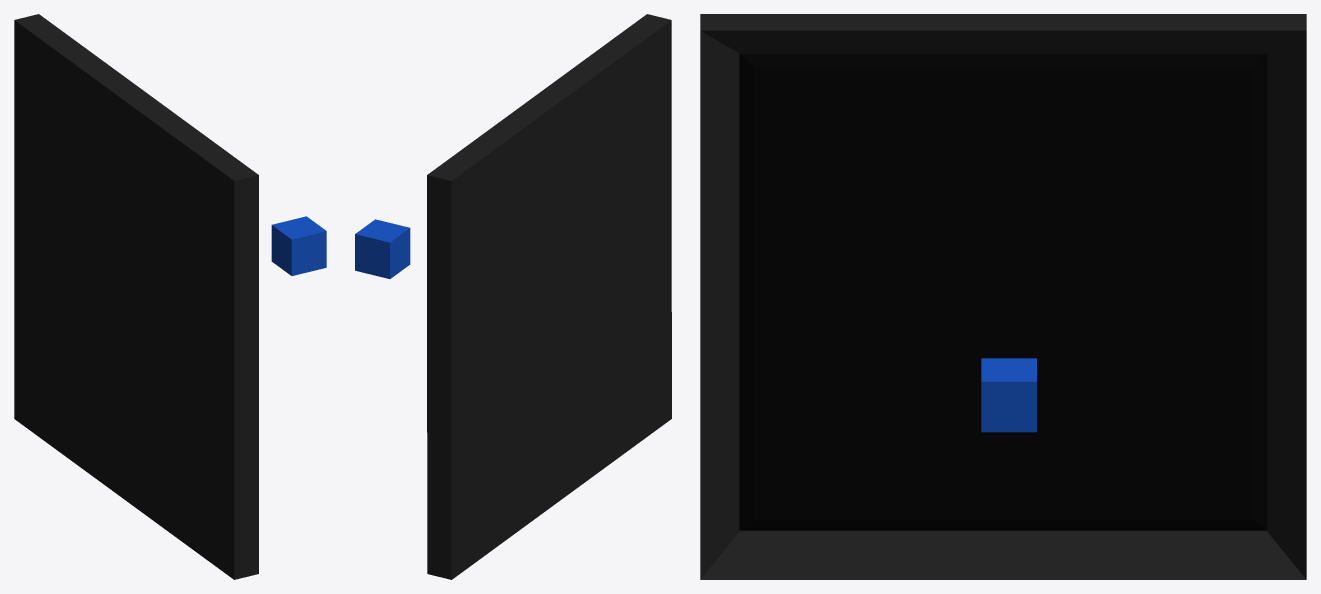
Rendered from mirror-box.obj.
The picture shows the model from 3 angles, left to right: view 1: azimuth 30°, elevation 25°; view 2: azimuth 150°, elevation 25°; view 3: azimuth 270°, elevation 25°; orthographic projection. The views are drawn at different scales.
Visible parts, largest first — view 1: 14319_Artik_Mirror-Black_v1_l1, Cube_Cube.002; view 2: 14319_Artik_Mirror-Black_v1_l1, Cube_Cube.002; view 3: 14319_Artik_Mirror-Black_v1_l1, Cube_Cube.002.
Part boxes in pixels (x1,y1,x2,y2): 14319_Artik_Mirror-Black_v1_l1: [14, 14, 258, 579]; Cube_Cube.002: [271, 216, 326, 275]; 14319_Artik_Mirror-Black_v1_l1: [427, 14, 671, 579]; Cube_Cube.002: [355, 219, 410, 278]; 14319_Artik_Mirror-Black_v1_l1: [700, 14, 1306, 579]; Cube_Cube.002: [981, 358, 1036, 432].
Bounding box in the file's own units: 11.11 × 21.78 × 21.78.
